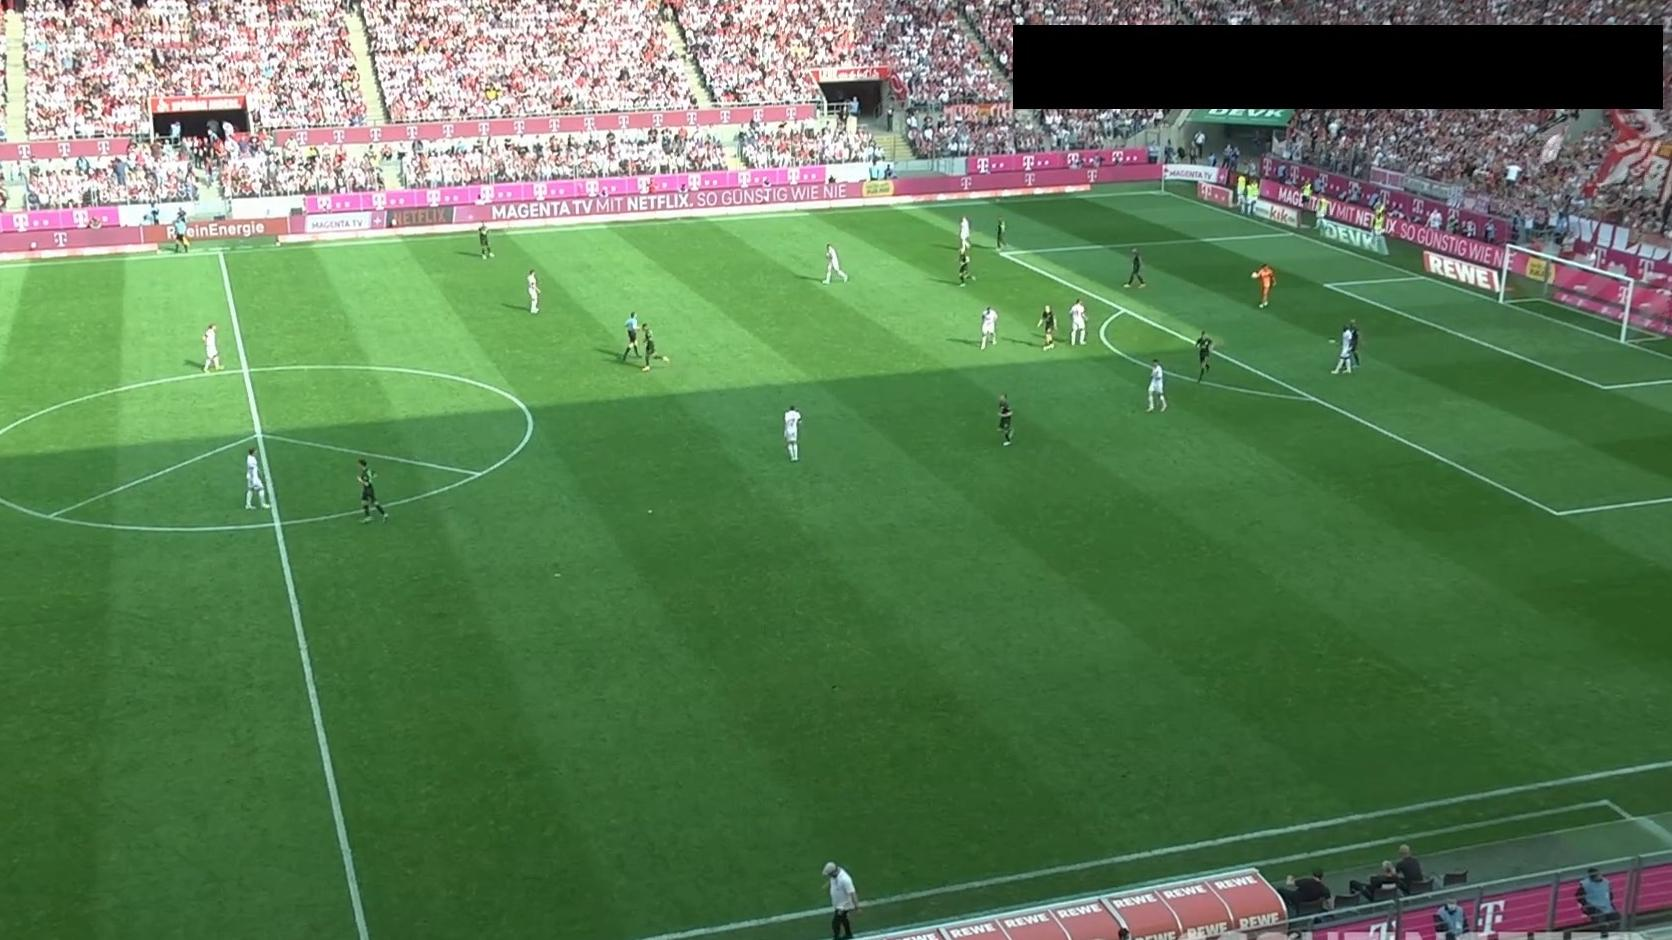ball: (1251, 271, 1259, 280)
